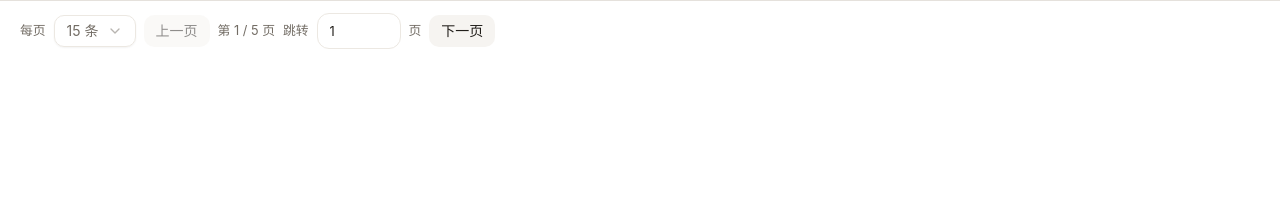
it: admin Pagination（后台统一分页） › 未传 options 时下拉使用全站档位，且默认值 15 在可选档位内
Click the dropdown named "每页显示数量" at {"x": 95, "y": 31}, box x1=54 y1=15 x2=136 y2=47
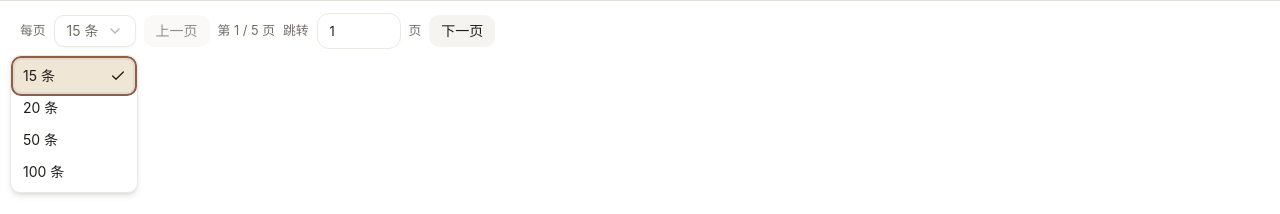
Check: the option "15 条" is shown, box x1=15 y1=60 x2=133 y2=92
Check: the option "20 条" is shown, box x1=23 y1=99 x2=58 y2=116
Check: the option "50 条" is shown, box x1=23 y1=131 x2=58 y2=148
